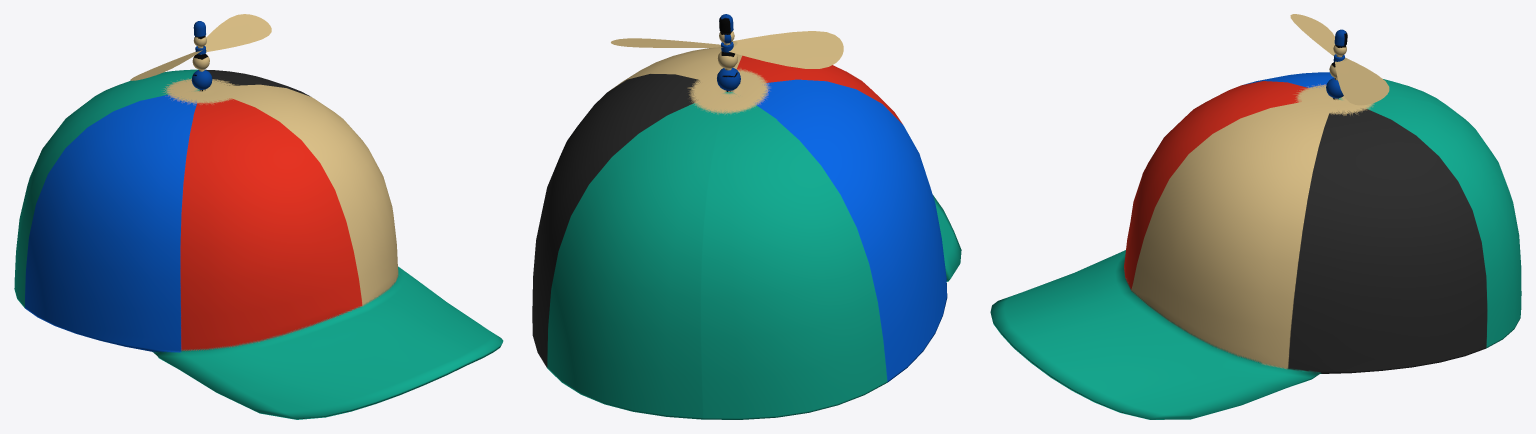
File: cap.glb
The picture shows the model from 3 angles, left to right: view 1: azimuth 30°, elevation 25°; view 2: azimuth 150°, elevation 25°; view 3: azimuth 270°, elevation 25°; orthographic projection. The views are drawn at different scales.
Visible parts, largest first — view 1: headwear-cap; view 2: headwear-cap; view 3: headwear-cap.
Boxes of the visible parts, x1=… form: headwear-cap: x1=14, y1=14, x2=503, y2=419; headwear-cap: x1=532, y1=14, x2=961, y2=419; headwear-cap: x1=990, y1=14, x2=1521, y2=419.
Size of the model in its own units: 0.4264 by 0.3393 by 0.5502.
1 material, 1 textured.
